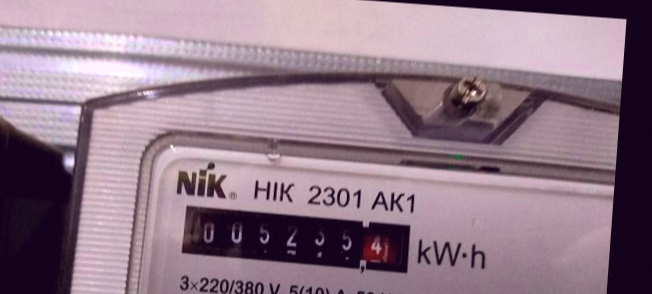0: (201, 217, 218, 244), (230, 217, 245, 243)
2: (285, 220, 300, 246)
3: (313, 220, 328, 246)
4: (369, 229, 386, 256)
5: (339, 223, 356, 251), (257, 218, 273, 245)
screen: (172, 194, 424, 281)
